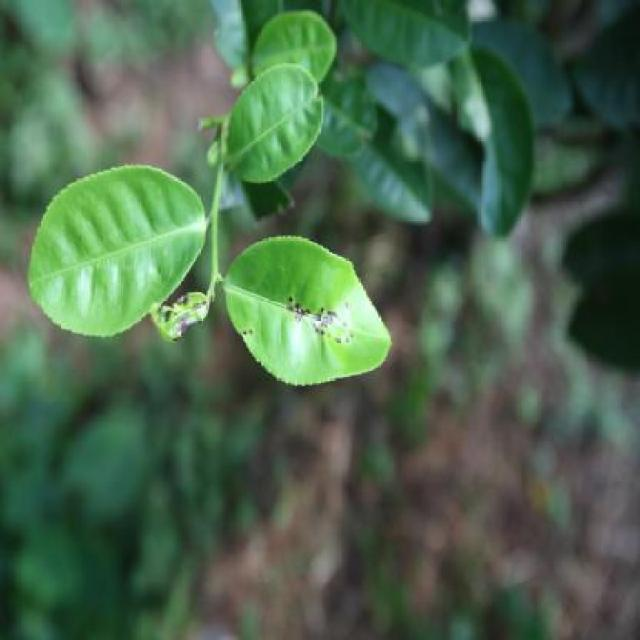Tea Mosquito bug infested leaf: (232, 244, 388, 384), (131, 270, 229, 348)
